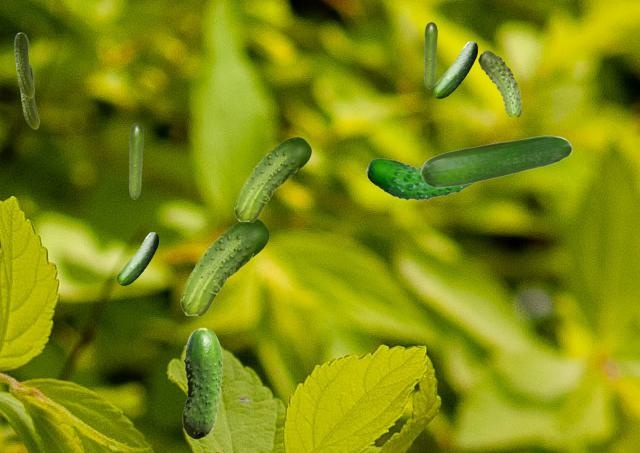cucumber: (180, 218, 268, 315), (420, 135, 571, 187), (365, 141, 496, 200), (234, 137, 310, 221), (182, 327, 222, 438), (478, 50, 521, 115), (432, 41, 476, 97), (117, 232, 157, 284), (14, 32, 33, 97), (19, 64, 38, 128), (129, 123, 142, 198), (424, 22, 436, 87)
